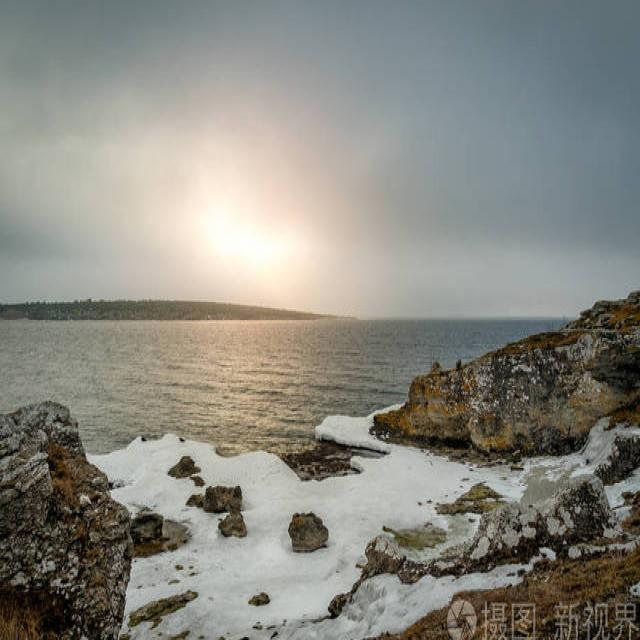reef: (0, 365, 241, 585), (367, 356, 640, 522)
